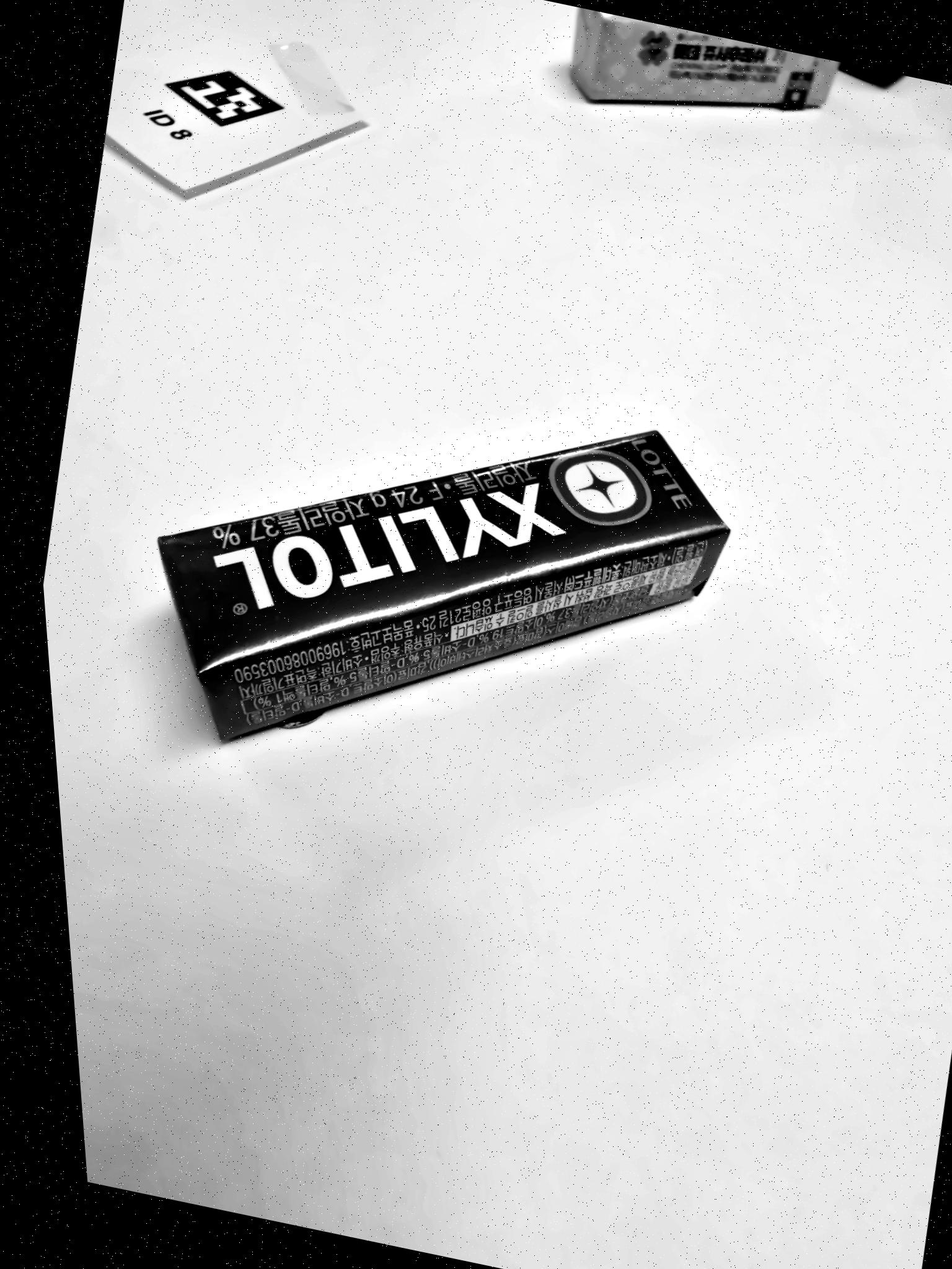gum_green: (159, 432, 729, 740)
